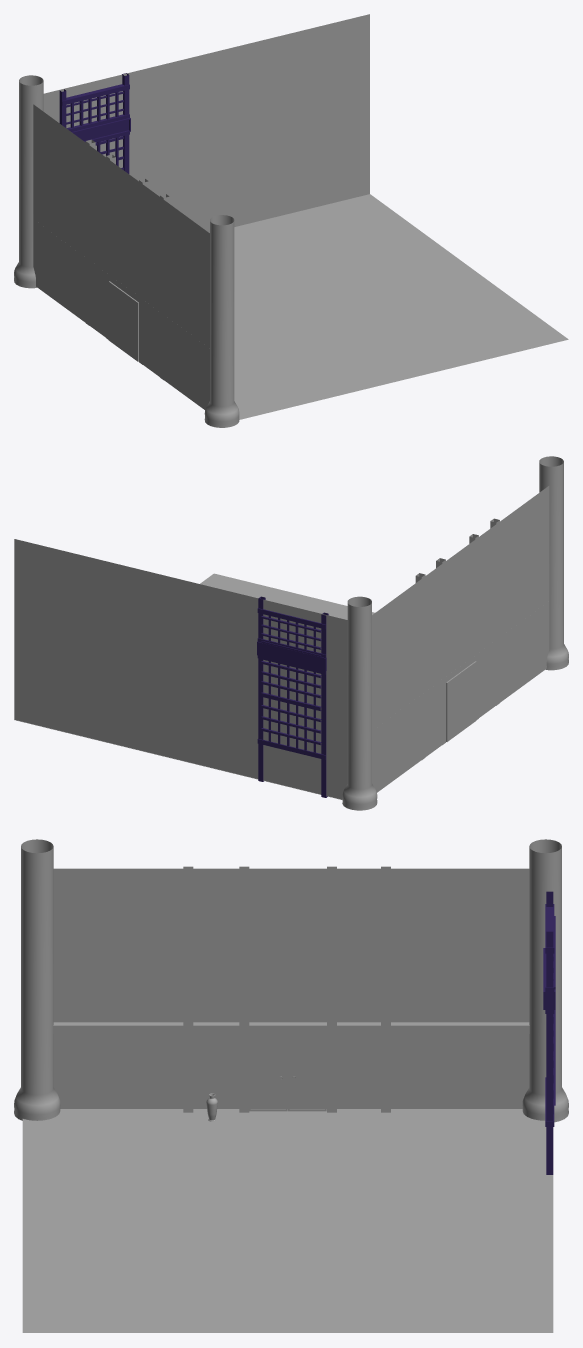
The model's file is Cuarto_Prueba.fbx.
The picture shows the model from 3 angles, top to bottom: view 1: azimuth 30°, elevation 25°; view 2: azimuth 150°, elevation 25°; view 3: azimuth 270°, elevation 25°; orthographic projection. The views are drawn at different scales.
Visible parts, largest first — view 1: pCylinder8; view 2: pCylinder8; view 3: pCylinder8.
Part boxes in pixels (box(x1,y1,x2,y2)): pCylinder8: box(14, 14, 568, 427); pCylinder8: box(14, 456, 568, 810); pCylinder8: box(14, 839, 568, 1332).
Bounding box in the file's own units: 21.57 × 11.6 × 21.82.
